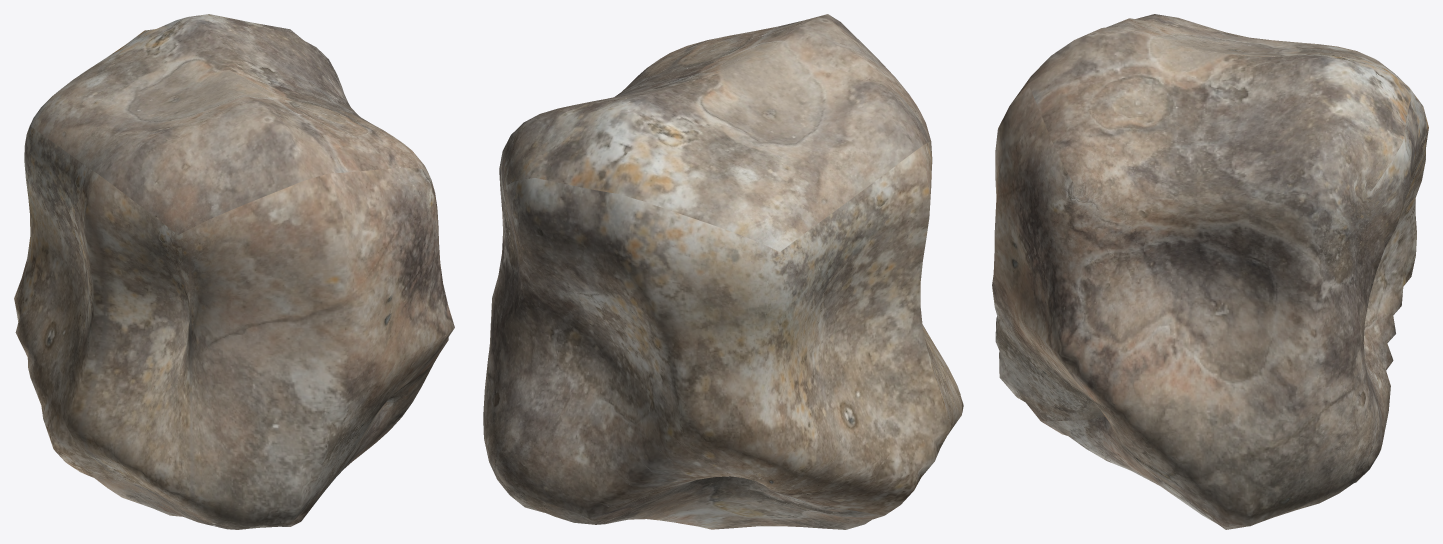
The model's file is rock.fbx.
The picture shows the model from 3 angles, left to right: view 1: azimuth 30°, elevation 25°; view 2: azimuth 150°, elevation 25°; view 3: azimuth 270°, elevation 25°; orthographic projection. The views are drawn at different scales.
Visible parts, largest first — view 1: 立方体; view 2: 立方体; view 3: 立方体.
Part boxes in pixels (<box>): 立方体: <box>14,14,454,529</box>; 立方体: <box>483,14,963,529</box>; 立方体: <box>992,14,1428,529</box>.
Size of the model in its own units: 227 by 258 by 232.
